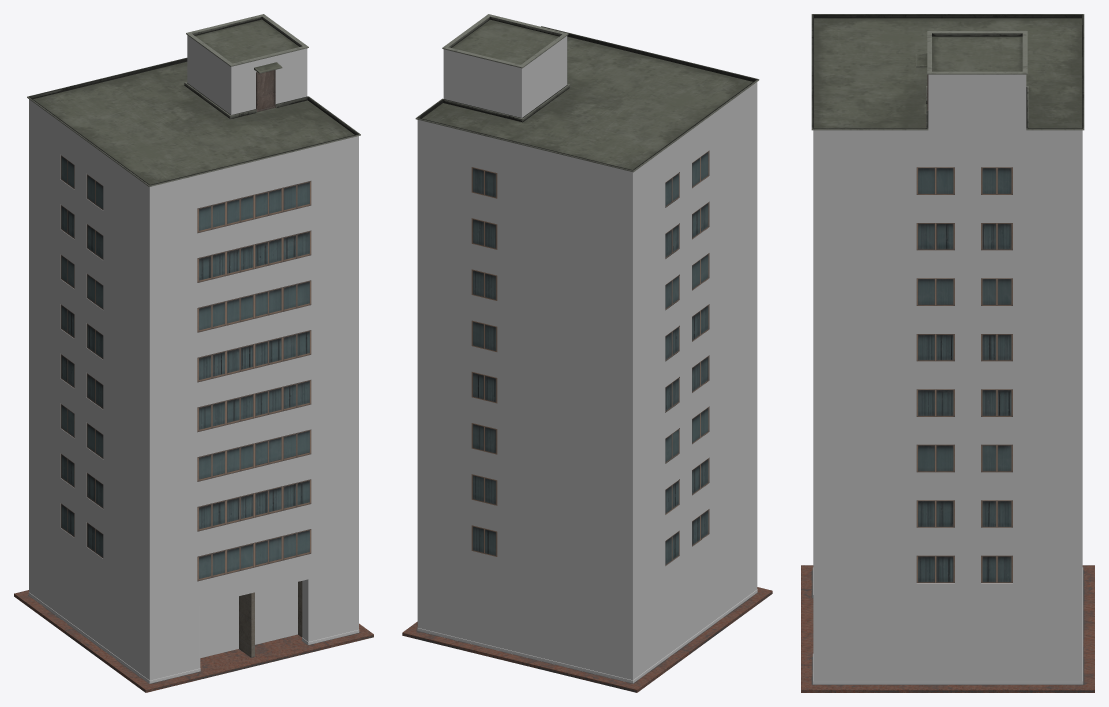
File: BldF_low.fbx
3 renders of one model, left to right at view 1: azimuth 30°, elevation 25°; view 2: azimuth 150°, elevation 25°; view 3: azimuth 270°, elevation 25°, orthographic. The views are drawn at different scales.
Parts seen in each view (by area): view 1: BldF_low; view 2: BldF_low; view 3: BldF_low.
Part boxes in pixels (x1=…): BldF_low: x1=14, y1=14, x2=373, y2=692; BldF_low: x1=402, y1=14, x2=772, y2=692; BldF_low: x1=801, y1=14, x2=1094, y2=692.
Size of the model in its own units: 1200 by 2770 by 1200.
